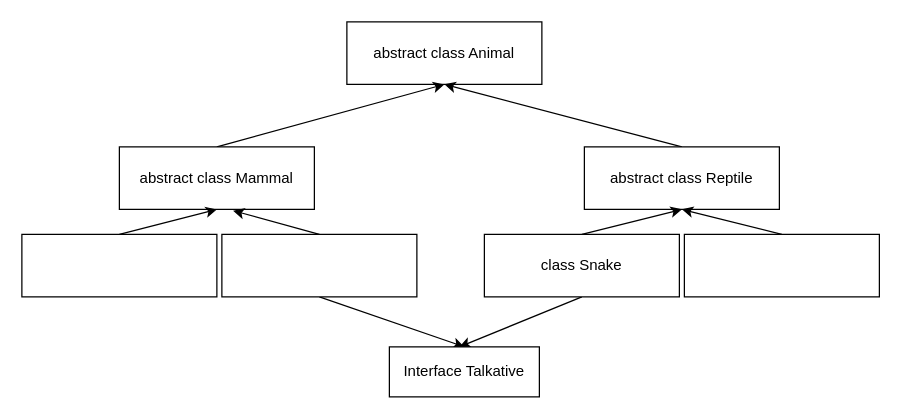
The diagram is 901 pixels wide and 419 high, and some of its shapes have lost their labels. The shapes that lost their labels are listed below. From the top down, each one's centre as x and y in pixels, then its label:
(119,265): class Rabbit
(319,265): class Lion
(781,265): class Iguana
